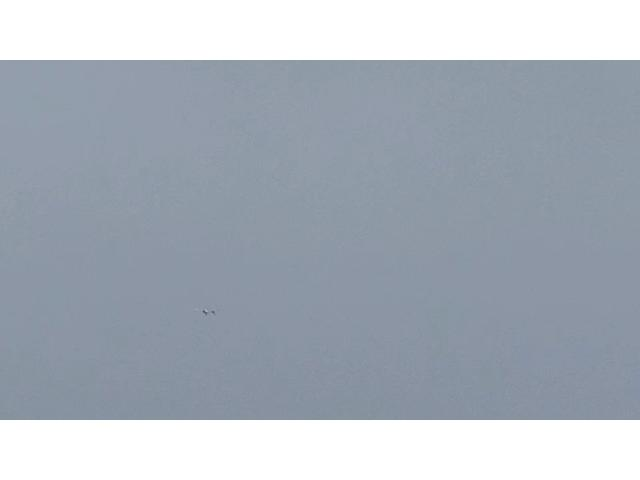Anti-Drone: (190, 302, 218, 316)
